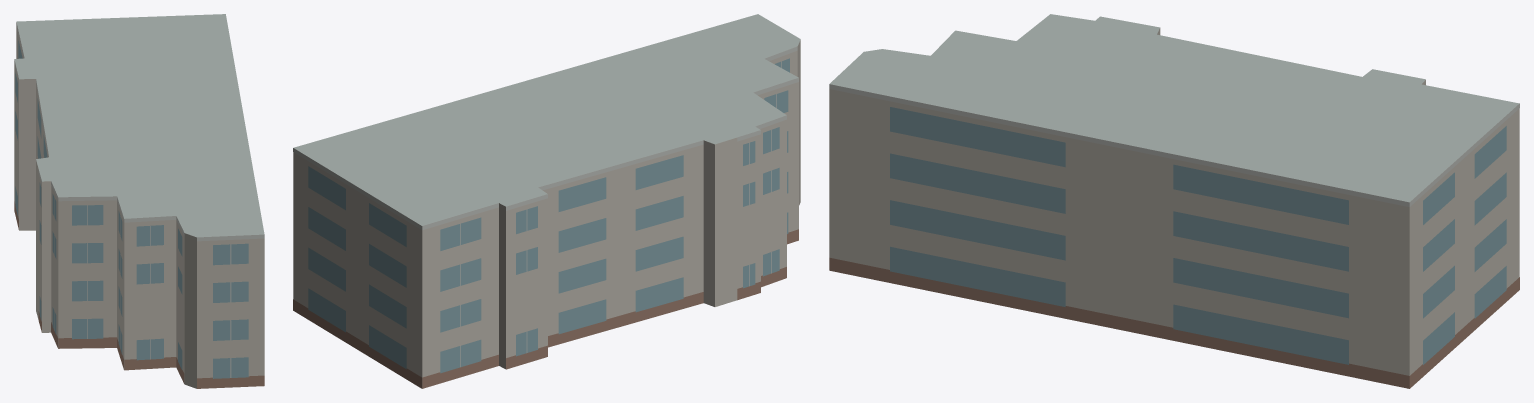
Rendered from survey-upis-32480890.glb.
3 views of the same model, side by side, from view 1: azimuth 30°, elevation 25°; view 2: azimuth 150°, elevation 25°; view 3: azimuth 270°, elevation 25° (orthographic). The views are drawn at different scales.
Visible parts, largest first — view 1: survey-upis-32480890.tmp; view 2: survey-upis-32480890.tmp; view 3: survey-upis-32480890.tmp.
Boxes of the visible parts, x1=… form: survey-upis-32480890.tmp: x1=14, y1=14, x2=264, y2=388; survey-upis-32480890.tmp: x1=293, y1=14, x2=800, y2=388; survey-upis-32480890.tmp: x1=829, y1=14, x2=1519, y2=388.
Size of the model in its own units: 20.37 by 9.4 by 31.54.
